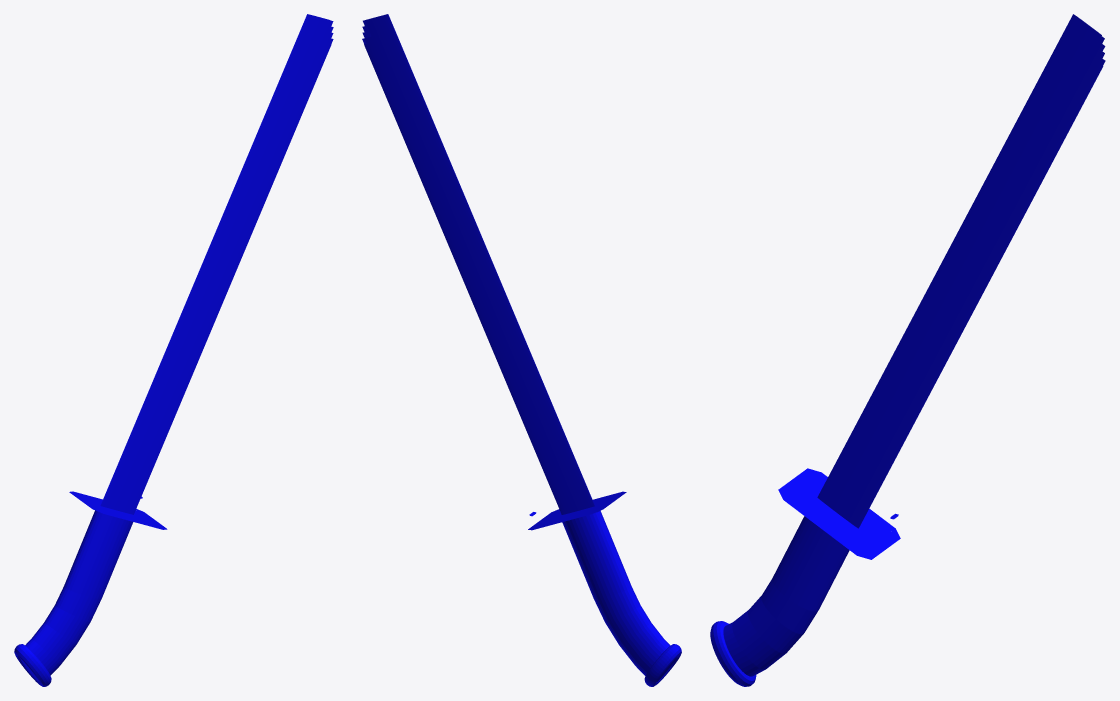
File: untitled_colored.obj
3 views of the same model, side by side, from view 1: azimuth 30°, elevation 25°; view 2: azimuth 150°, elevation 25°; view 3: azimuth 330°, elevation 25° (orthographic). The views are drawn at different scales.
Parts seen in each view (by area): view 1: Cylinder.001, Cylinder, Torus, Plane; view 2: Cylinder.001, Cylinder, Torus, Plane; view 3: Cylinder.001, Cylinder, Plane, Torus.
Part boxes in pixels (x1,y1,x2,y2): Cylinder.001: [100, 14, 333, 514]; Cylinder: [19, 510, 133, 682]; Torus: [14, 644, 51, 686]; Plane: [75, 492, 161, 529]; Cylinder.001: [362, 14, 594, 514]; Cylinder: [562, 510, 676, 682]; Torus: [644, 644, 681, 686]; Plane: [533, 492, 621, 529]; Cylinder.001: [817, 14, 1105, 528]; Cylinder: [723, 516, 849, 676]; Plane: [784, 472, 894, 555]; Torus: [710, 621, 756, 686].
Size of the model in its own units: 7.83 by 14.3 by 1.32.
